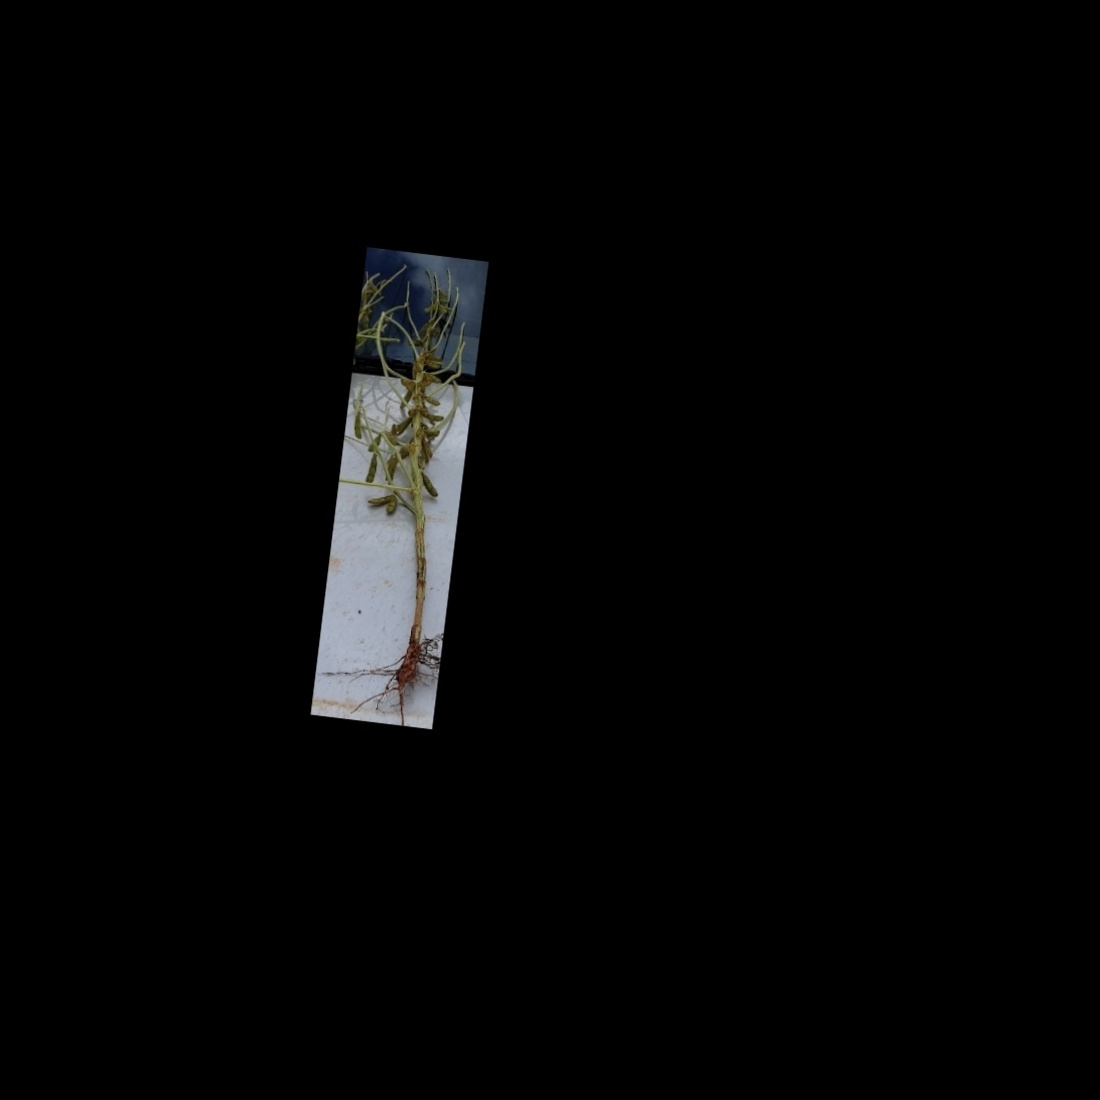pod: (361, 452, 381, 485), (417, 472, 441, 499), (348, 413, 365, 442), (419, 409, 447, 423), (384, 492, 399, 516)
soy: (317, 264, 482, 712)
